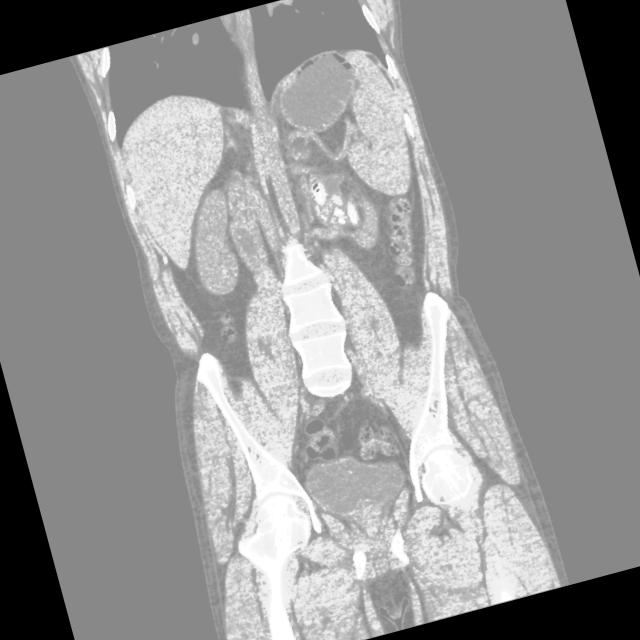STONE: (168, 164, 499, 507)
